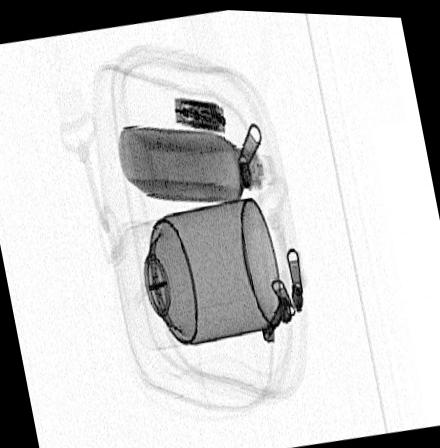Sprayer: (109, 191, 283, 349)
